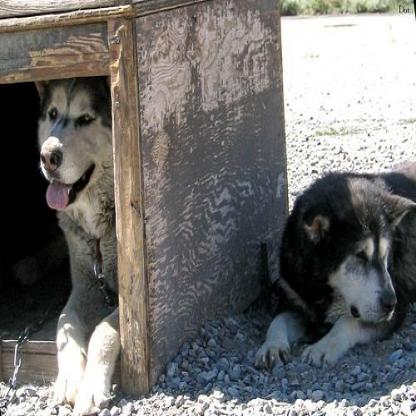Eskimo_dog: (253, 169, 413, 369), (32, 78, 119, 413)
